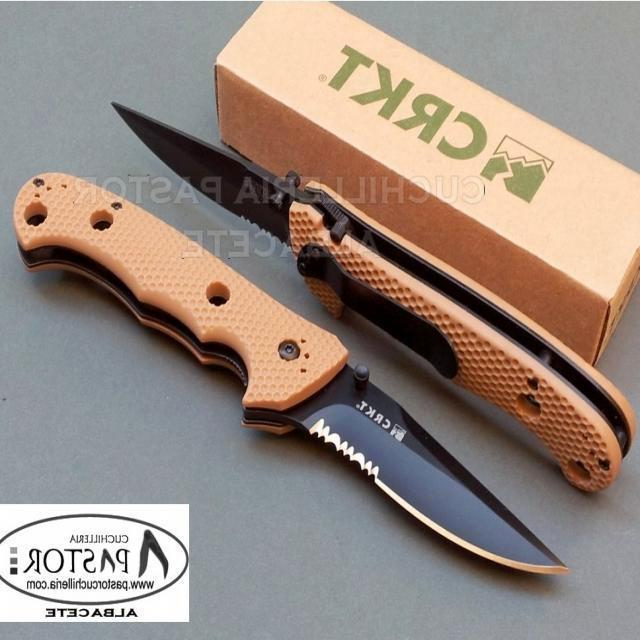Knife: (14, 172, 568, 574), (115, 106, 635, 491)
